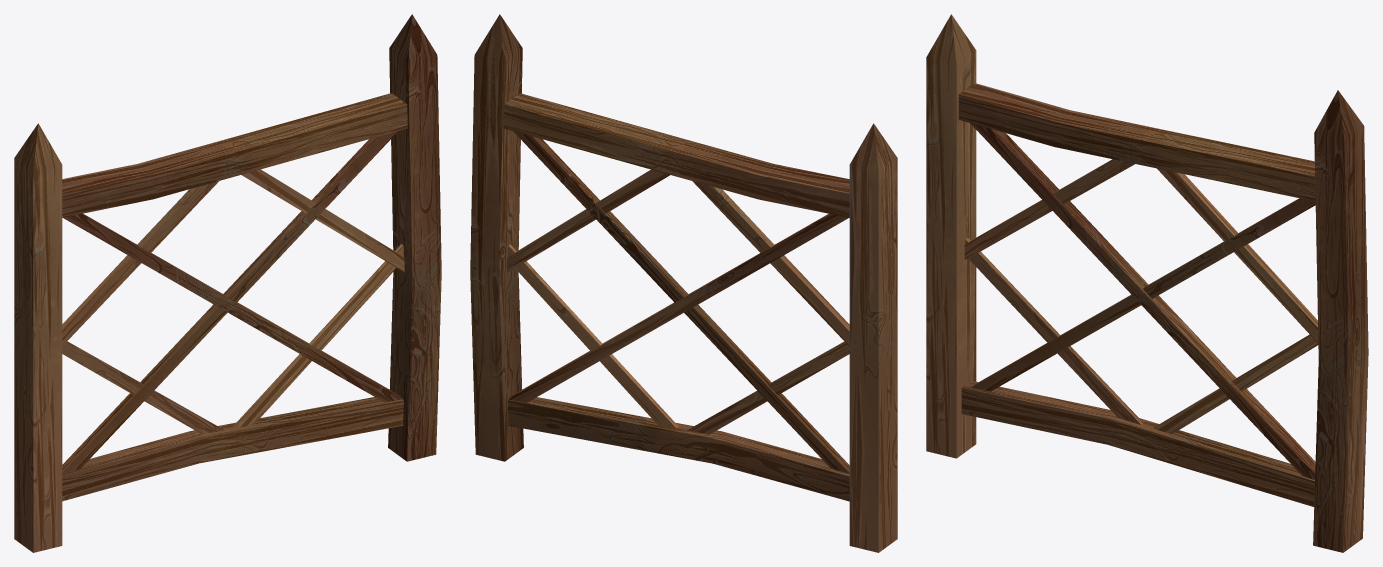
File: Fence.fbx
The picture shows the model from 3 angles, left to right: view 1: azimuth 30°, elevation 25°; view 2: azimuth 150°, elevation 25°; view 3: azimuth 330°, elevation 25°; orthographic projection. The views are drawn at different scales.
Parts seen in each view (by area): view 1: Fence; view 2: Fence; view 3: Fence.
Boxes of the visible parts, bbox=[...] form: Fence: bbox=[14, 14, 441, 552]; Fence: bbox=[470, 14, 897, 552]; Fence: bbox=[926, 14, 1368, 552].
Size of the model in its own units: 216 by 221 by 17.42.
